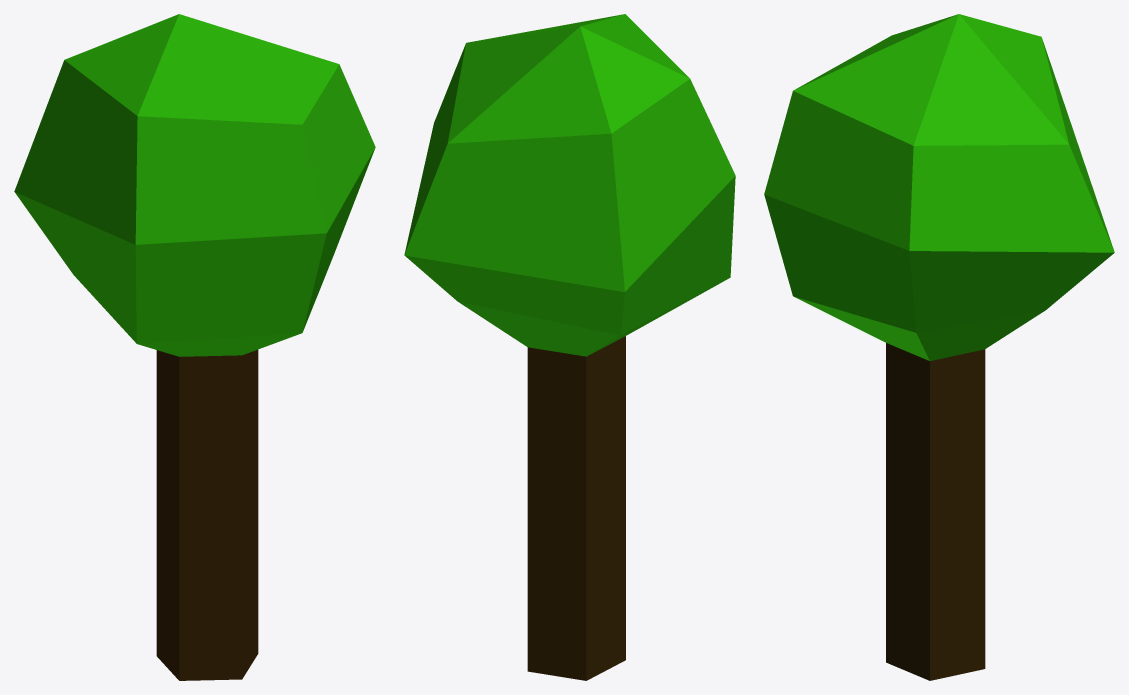
The model's file is Tree_3.fbx.
3 renders of one model, left to right at view 1: azimuth 30°, elevation 25°; view 2: azimuth 150°, elevation 25°; view 3: azimuth 270°, elevation 25°, orthographic.
Parts seen in each view (by area): view 1: Tree_3; view 2: Tree_3; view 3: Tree_3.
Part boxes in pixels (box(x1,y1,x2,y2)): Tree_3: box(14, 14, 375, 680); Tree_3: box(404, 14, 735, 680); Tree_3: box(764, 14, 1114, 680).
Size of the model in its own units: 343 by 764 by 382.
